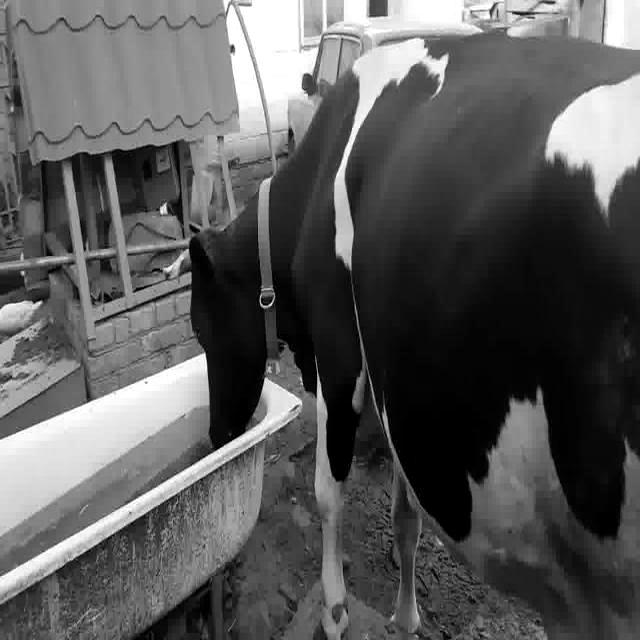COW: (191, 34, 640, 640)
